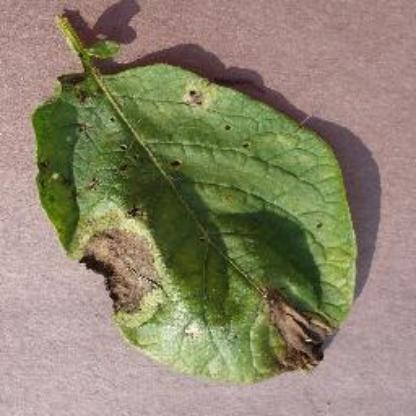Late-Blight: (28, 7, 366, 394)
